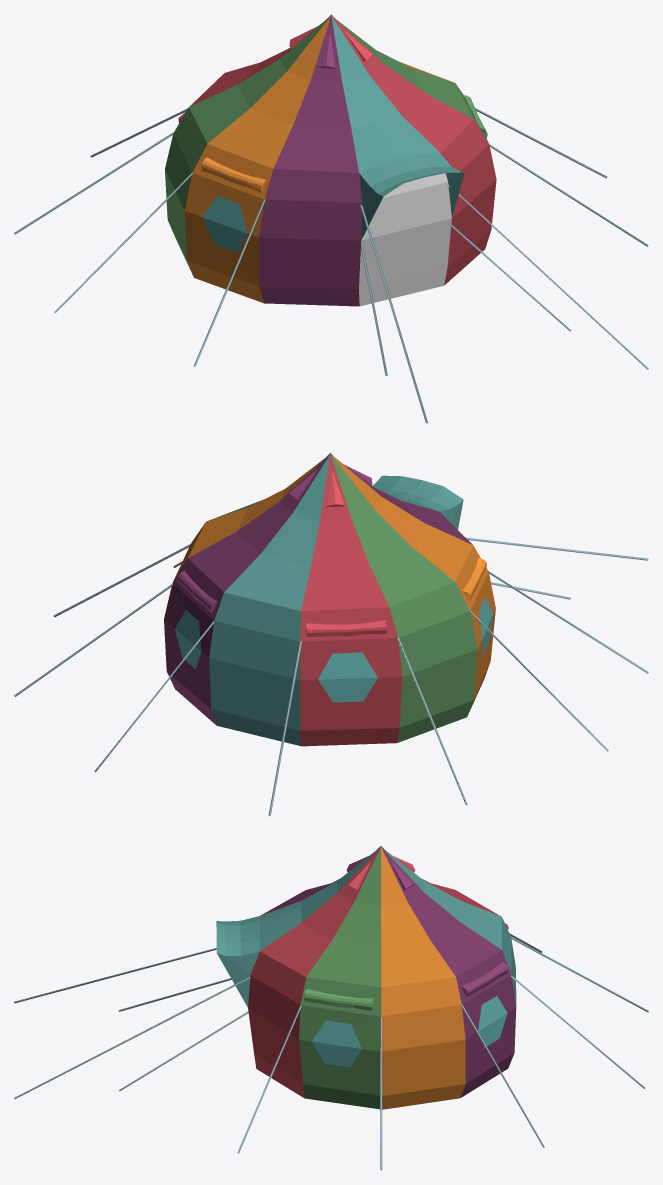
File: Tent_Medium_01.fbx
The picture shows the model from 3 angles, top to bottom: view 1: azimuth 30°, elevation 25°; view 2: azimuth 150°, elevation 25°; view 3: azimuth 270°, elevation 25°; orthographic projection. The views are drawn at different scales.
Parts seen in each view (by area): view 1: Tent_Base, Door; view 2: Tent_Base; view 3: Tent_Base.
Boxes of the visible parts, x1=… form: Tent_Base: x1=14, y1=14, x2=648, y2=423; Door: x1=359, y1=173, x2=451, y2=306; Tent_Base: x1=14, y1=452, x2=648, y2=816; Tent_Base: x1=14, y1=846, x2=648, y2=1170.
Size of the model in its own units: 10.85 by 4.39 by 12.13.
